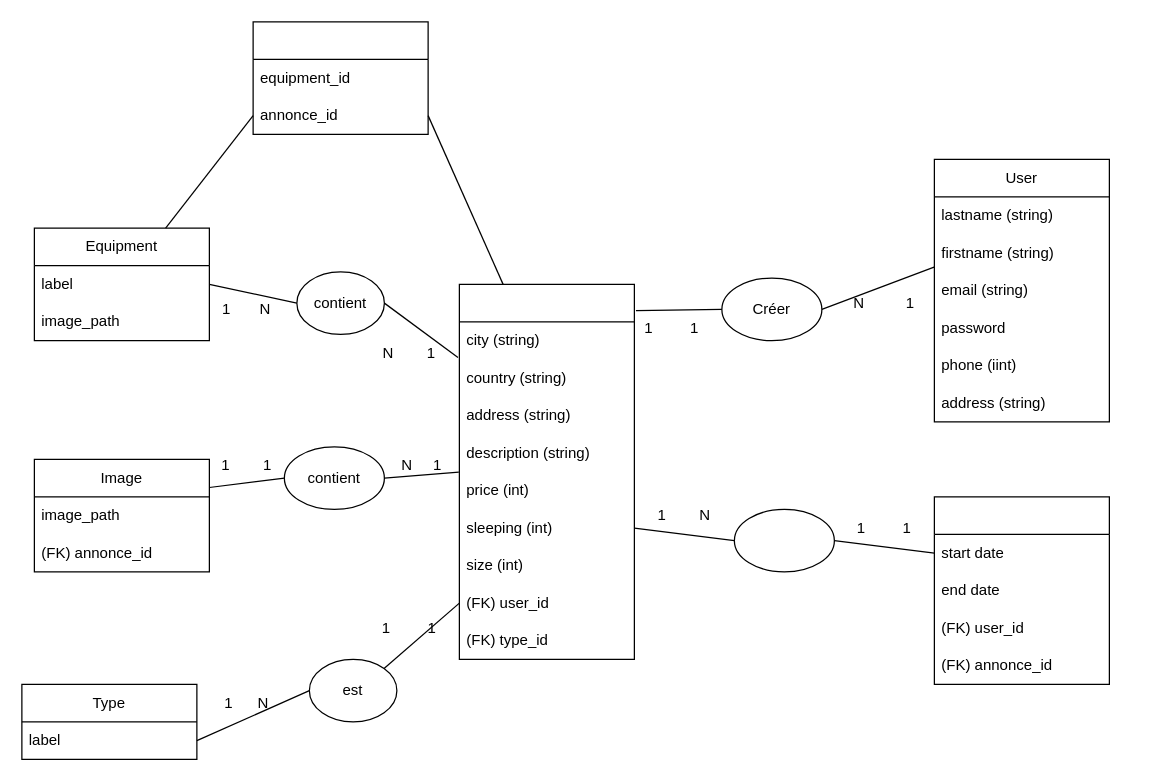
Some shapes in this 1166 by 781 pixel diagram are drawn without their labels. The shapes that lost their labels are listed below. From the top down, each one's box as (x1, y1, x2, y2) in pixels, then its label:
(252, 21, 428, 134): List
(458, 283, 634, 659): Annonces
(733, 508, 834, 572): Avoir
(933, 496, 1109, 684): reservation
